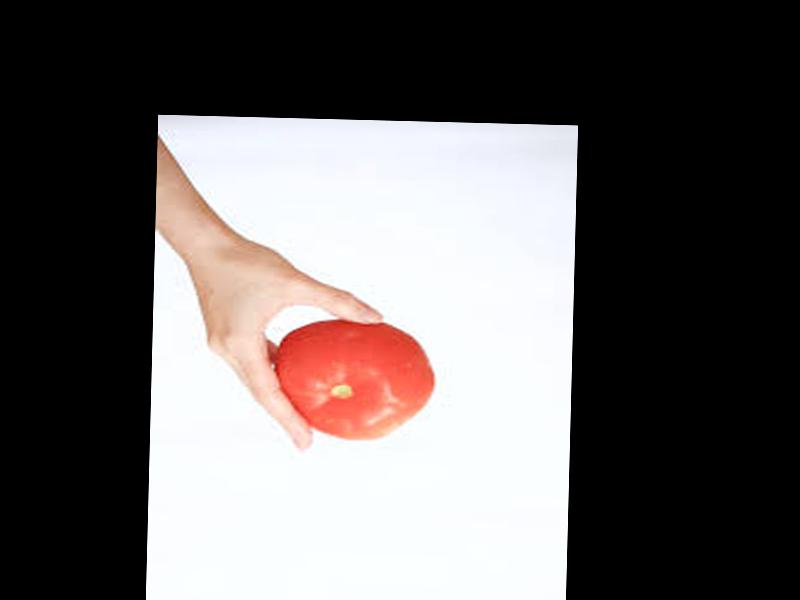Tomato: (277, 318, 435, 442)
